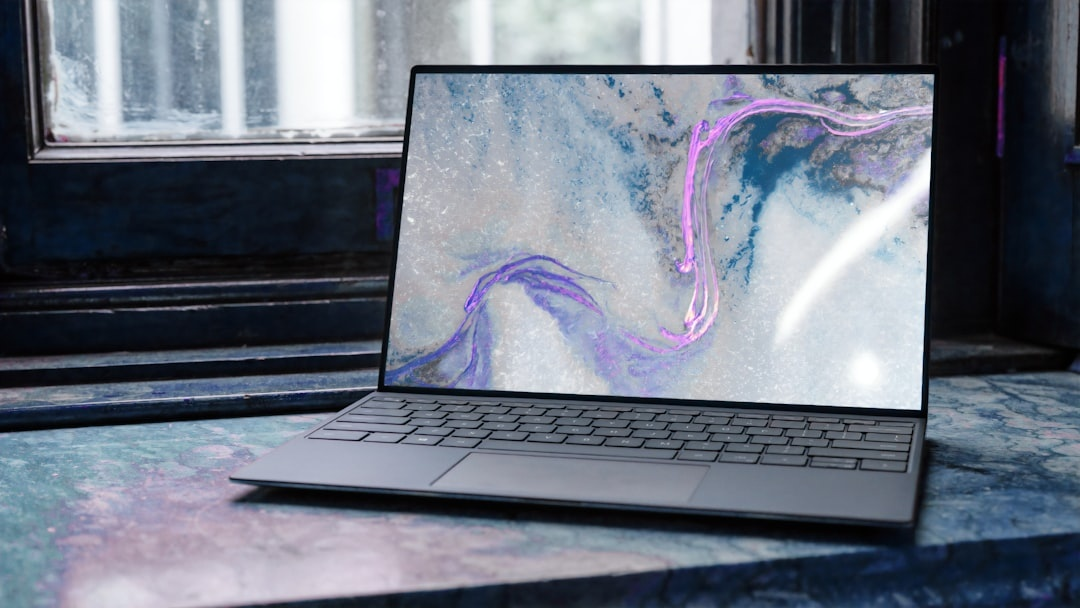laptop: (166, 35, 1022, 551)
